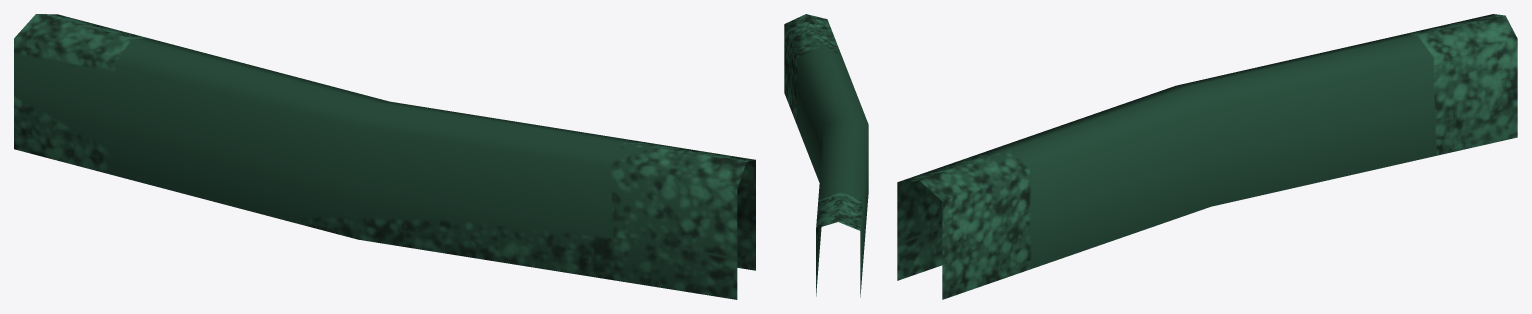
The model's file is Ring47.fbx.
The picture shows the model from 3 angles, left to right: view 1: azimuth 30°, elevation 25°; view 2: azimuth 150°, elevation 25°; view 3: azimuth 270°, elevation 25°; orthographic projection. The views are drawn at different scales.
Parts seen in each view (by area): view 1: Ring47; view 2: Ring47; view 3: Ring47.
Boxes of the visible parts, <box> form: Ring47: <box>14,14,755,299</box>; Ring47: <box>784,14,868,297</box>; Ring47: <box>897,14,1517,299</box>.
Bounding box in the file's own units: 1467 × 400 × 2053.
